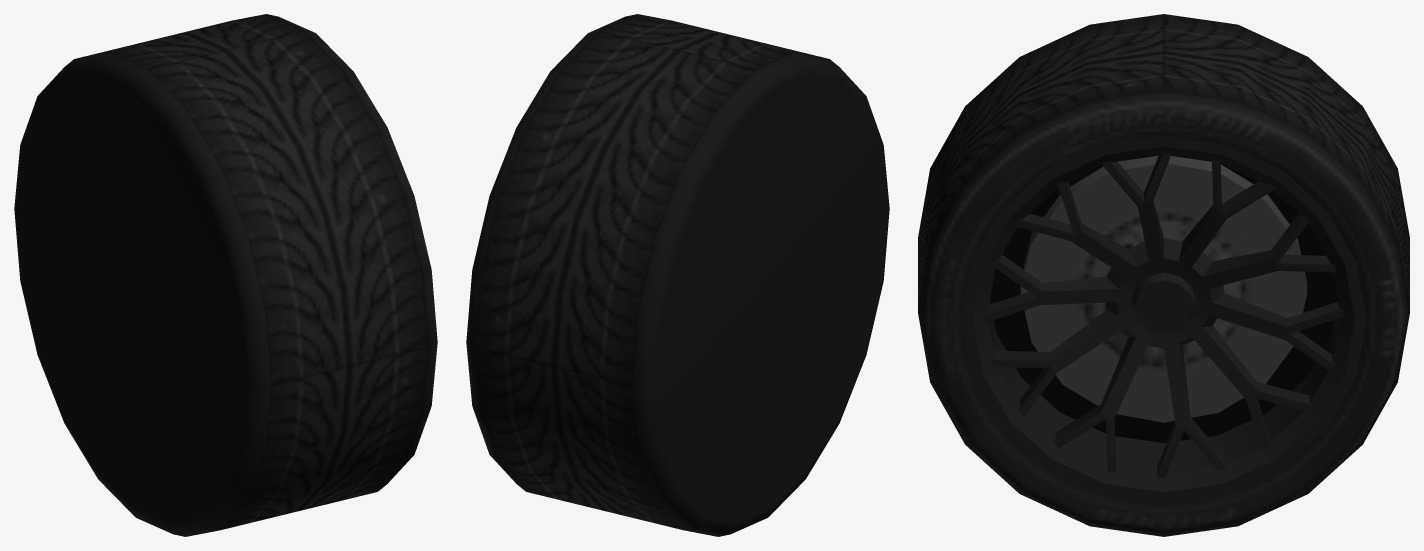
The model's file is Wheel.obj.
3 views of the same model, side by side, from view 1: azimuth 30°, elevation 25°; view 2: azimuth 150°, elevation 25°; view 3: azimuth 270°, elevation 25° (orthographic).
Visible parts, largest first — view 1: Wheel:Mesh; view 2: Wheel:Mesh; view 3: Wheel:Mesh.
Boxes of the visible parts, x1,y1,x2,y2 form: Wheel:Mesh: (14, 14, 437, 536); Wheel:Mesh: (466, 14, 889, 536); Wheel:Mesh: (918, 14, 1409, 536).
Size of the model in its own units: 0.305 by 0.6912 by 0.6912.
1 material, 1 textured.
